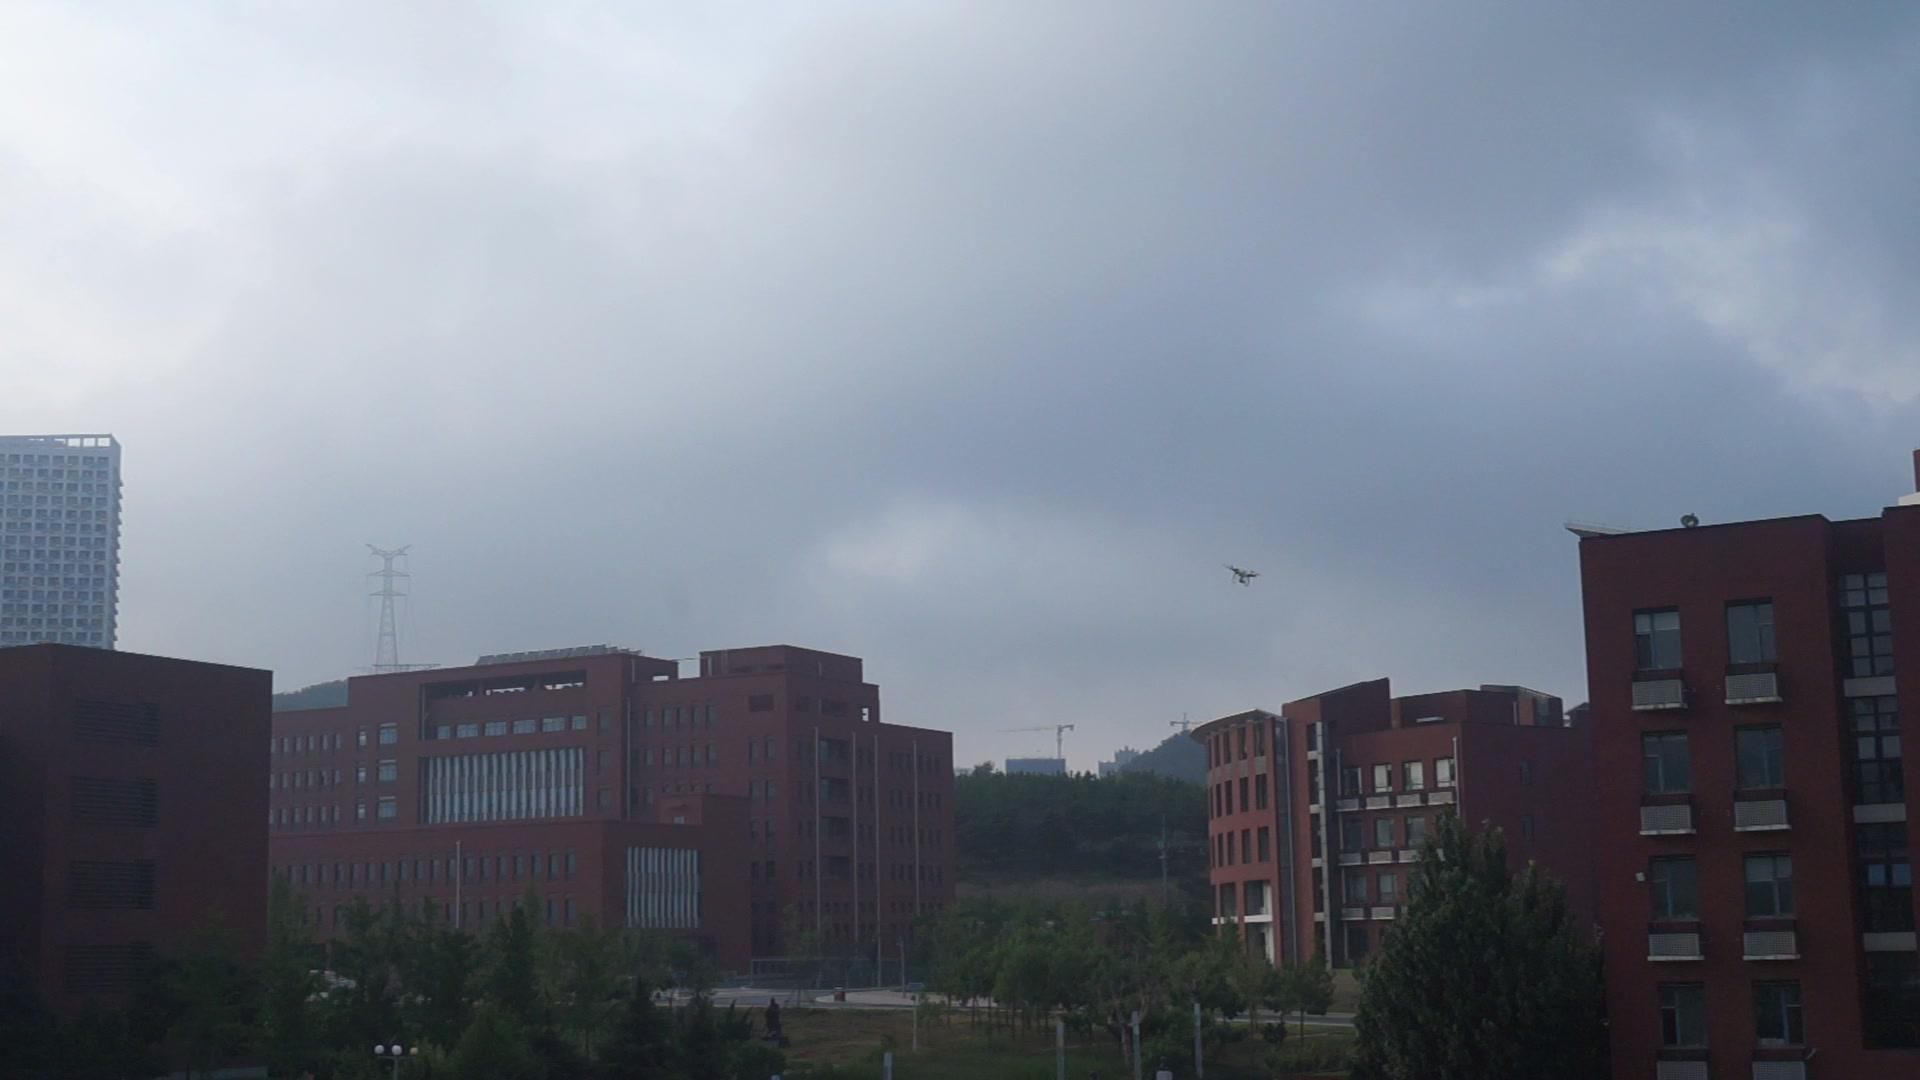UAV: (1222, 564, 1262, 588)
